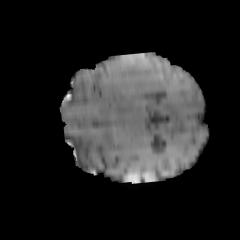glioma: (92, 53, 168, 118)
